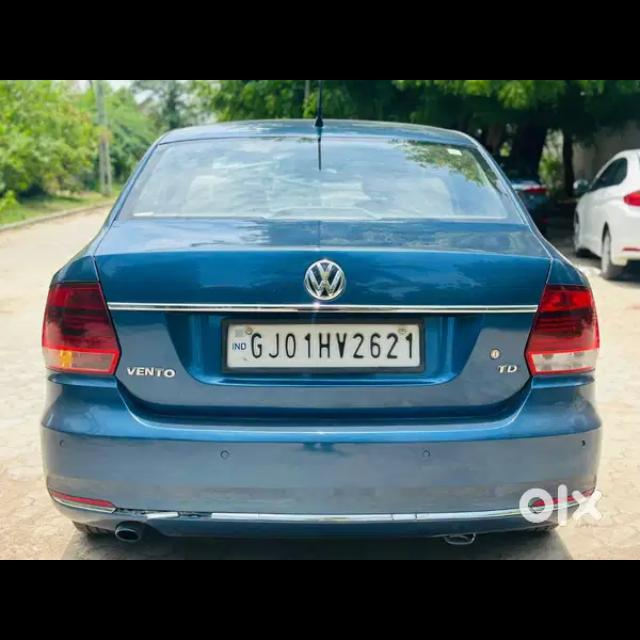vehicles: (39, 120, 597, 548), (573, 146, 639, 276)
